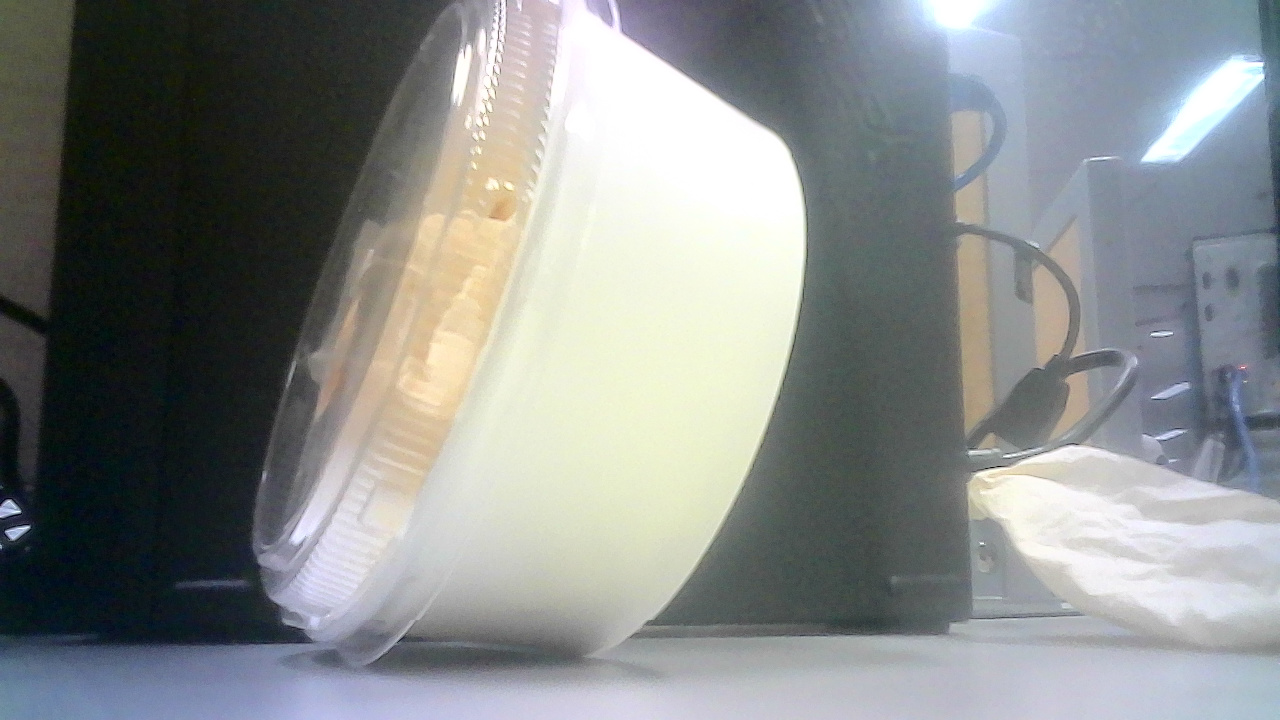Undefined_Waste: (212, 4, 816, 673)
